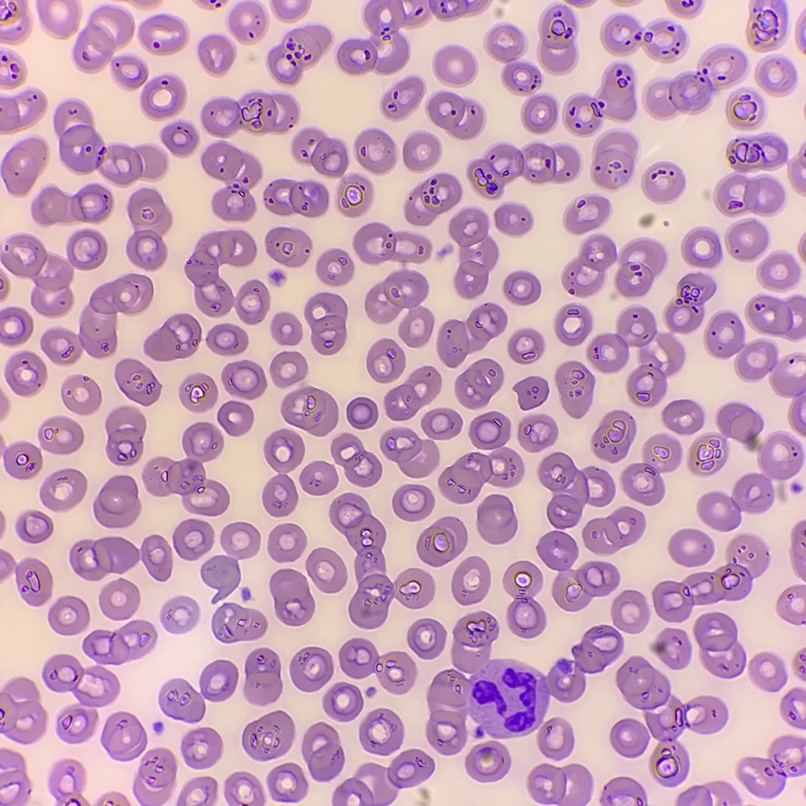RBC: (426, 612, 584, 754), (587, 273, 714, 406), (689, 402, 801, 530), (616, 656, 726, 785), (330, 493, 433, 628), (705, 312, 805, 434), (337, 0, 487, 74), (41, 274, 152, 363), (653, 535, 767, 621), (53, 102, 166, 186), (0, 229, 106, 316), (143, 422, 228, 515), (185, 230, 269, 323), (439, 412, 523, 503), (646, 48, 746, 117), (42, 654, 118, 742), (538, 531, 618, 610), (467, 143, 579, 198), (74, 7, 147, 88), (332, 749, 433, 805), (539, 453, 614, 528), (365, 271, 433, 346), (563, 64, 635, 134), (160, 660, 237, 721), (202, 141, 261, 220), (69, 535, 171, 580), (437, 303, 506, 366), (449, 208, 497, 298), (201, 92, 298, 136), (339, 638, 416, 693), (201, 522, 259, 595), (622, 434, 680, 504), (738, 736, 805, 796), (267, 25, 331, 84), (127, 188, 171, 269), (487, 26, 540, 93), (562, 234, 615, 296), (694, 613, 744, 678), (31, 184, 112, 224), (83, 620, 156, 663), (504, 561, 545, 637), (354, 223, 430, 263), (384, 366, 440, 420), (0, 678, 46, 743), (615, 238, 666, 296), (405, 173, 461, 225), (0, 550, 52, 605), (380, 428, 438, 477), (715, 174, 784, 215), (583, 507, 644, 553), (281, 386, 337, 435), (0, 137, 47, 195), (426, 92, 483, 139), (527, 764, 591, 805), (331, 434, 381, 486), (292, 129, 347, 176), (144, 314, 200, 360), (592, 131, 636, 189), (747, 295, 805, 339), (242, 711, 294, 760), (305, 293, 346, 354), (270, 569, 314, 625), (539, 7, 576, 72), (134, 748, 176, 805), (94, 475, 140, 527), (264, 179, 328, 216), (455, 359, 503, 408), (417, 517, 466, 565), (572, 625, 622, 672), (302, 723, 343, 780), (106, 407, 145, 465), (592, 410, 635, 461), (727, 135, 786, 172), (101, 712, 146, 759), (212, 603, 266, 642), (556, 361, 593, 417), (244, 648, 281, 704), (115, 359, 160, 404), (747, 0, 786, 51), (359, 709, 403, 754), (141, 75, 185, 118), (290, 647, 333, 691), (40, 469, 86, 510), (477, 495, 516, 543), (0, 91, 45, 132), (138, 16, 186, 54), (381, 77, 424, 119), (465, 741, 510, 781), (265, 227, 311, 266), (452, 557, 490, 604), (725, 219, 768, 260), (5, 352, 46, 395), (306, 548, 346, 592), (355, 129, 395, 172), (181, 727, 222, 768), (643, 21, 685, 61), (566, 194, 609, 233), (642, 162, 683, 202), (264, 430, 303, 472), (669, 529, 713, 566), (0, 749, 29, 805), (50, 760, 86, 805), (173, 519, 213, 559), (367, 339, 404, 382), (222, 361, 265, 398), (39, 417, 83, 453), (99, 580, 139, 619), (651, 628, 690, 668), (676, 781, 741, 805), (434, 45, 475, 83), (48, 596, 89, 634), (601, 16, 641, 54), (682, 227, 720, 267), (267, 763, 307, 801), (0, 442, 41, 479), (612, 590, 648, 632), (61, 375, 100, 413), (323, 683, 362, 721), (228, 1, 265, 41), (555, 304, 591, 345), (392, 484, 433, 520), (610, 719, 648, 757), (755, 58, 794, 95), (726, 90, 763, 129), (408, 619, 445, 658), (537, 718, 573, 758), (757, 253, 798, 288), (263, 474, 297, 516), (198, 35, 235, 73), (403, 132, 440, 170), (179, 374, 217, 411), (268, 524, 306, 561), (521, 94, 557, 133), (518, 415, 557, 451), (662, 400, 703, 434), (338, 174, 371, 216), (749, 653, 785, 691), (38, 0, 77, 35), (316, 249, 353, 285), (224, 772, 264, 805), (162, 597, 198, 632), (601, 777, 646, 805), (161, 122, 198, 156), (421, 408, 461, 439), (270, 352, 306, 386), (503, 271, 540, 304), (300, 461, 337, 494), (0, 307, 32, 345), (207, 324, 247, 354), (508, 329, 543, 363), (16, 510, 52, 543), (495, 203, 532, 235), (218, 401, 252, 435), (777, 585, 805, 623), (516, 376, 547, 408), (781, 688, 805, 728), (271, 313, 301, 344), (347, 397, 377, 428), (791, 521, 805, 578), (788, 146, 805, 191), (190, 777, 217, 805), (271, 0, 308, 19), (667, 0, 701, 15), (5, 58, 23, 81), (794, 649, 805, 678), (0, 27, 21, 41), (105, 793, 127, 805), (8, 8, 25, 18), (269, 271, 282, 283), (201, 0, 221, 7), (0, 396, 7, 414), (797, 13, 805, 28), (799, 238, 805, 257), (641, 216, 651, 226), (576, 0, 591, 6), (137, 0, 153, 5), (798, 39, 805, 50), (177, 797, 186, 805), (617, 0, 630, 5), (0, 517, 4, 530), (0, 273, 5, 283), (0, 76, 5, 84), (0, 291, 4, 299), (0, 0, 4, 4)
